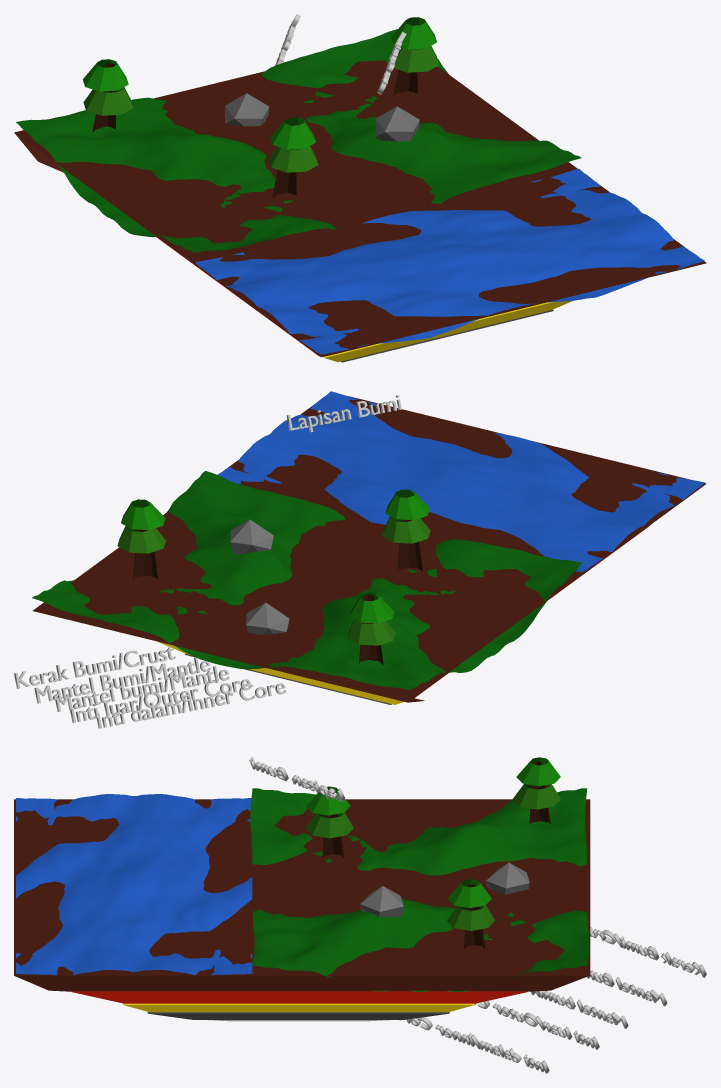
Rendered from lapisanbumi.obj.
3 views of the same model, one above another, from view 1: azimuth 30°, elevation 25°; view 2: azimuth 150°, elevation 25°; view 3: azimuth 270°, elevation 25° (orthographic). The views are drawn at different scales.
Parts seen in each view (by area): view 1: Plane.004_Plane.005, Plane.006_Plane.007, Plane.005_Plane.006, Plane.002_Plane.003, Icosphere.001, Icosphere, Circle.008_Circle.010, Circle.001_Circle.002, Circle.002_Circle.003, Circle.007_Circle.009, Circle.003_Circle.005, Circle.004_Circle.006; view 2: Plane.004_Plane.005, Plane.006_Plane.007, Plane.005_Plane.006, Text.004, Text.003, Text.001_Text.000, Text.002, Text.005, Icosphere.001, Icosphere, Text_Text.001, Circle.003_Circle.005 (+8 smaller); view 3: Plane.004_Plane.005, Plane.006_Plane.007, Plane.005_Plane.006, Plane.003_Plane.004, Plane.002_Plane.003, Plane.001, Text.001_Text.000, Text.005, Text.002, Icosphere.001, Icosphere, Text_Text.001 (+8 smaller).
Part boxes in pixels (x1,y1,x2,y2): Plane.004_Plane.005: (14,60,706,357); Plane.006_Plane.007: (195,168,704,354); Plane.005_Plane.006: (16,29,581,252); Plane.002_Plane.003: (323,301,572,362); Icosphere.001: (375,106,419,141); Icosphere: (225,93,269,126); Circle.008_Circle.010: (270,117,315,149); Circle.001_Circle.002: (83,87,133,115); Circle.002_Circle.003: (83,59,128,91); Circle.007_Circle.009: (268,146,318,172); Circle.003_Circle.005: (391,17,436,49); Circle.004_Circle.006: (394,46,439,72); Plane.004_Plane.005: (32,396,706,702); Plane.006_Plane.007: (217,391,704,572); Plane.005_Plane.006: (32,471,582,689); Text.004: (34,657,210,703); Text.003: (55,666,229,711); Text.001_Text.000: (97,683,286,728); Text.002: (70,679,251,722); Text.005: (14,647,175,688); Icosphere.001: (230,519,273,554); Icosphere: (246,602,289,634); Text_Text.001: (286,395,401,432); Circle.003_Circle.005: (121,499,165,529); Plane.004_Plane.005: (14,799,590,991); Plane.006_Plane.007: (16,794,252,975); Plane.005_Plane.006: (250,788,589,991); Plane.003_Plane.004: (72,991,527,1003); Plane.002_Plane.003: (123,1003,474,1012); Plane.001: (147,1012,449,1019); Text.001_Text.000: (399,1017,549,1073); Text.005: (590,927,706,977); Text.002: (474,1001,599,1049); Icosphere.001: (360,886,403,917); Icosphere: (486,862,529,894); Text_Text.001: (249,757,345,801).
Size of the model in its own units: 18.92 by 12.23 by 31.
